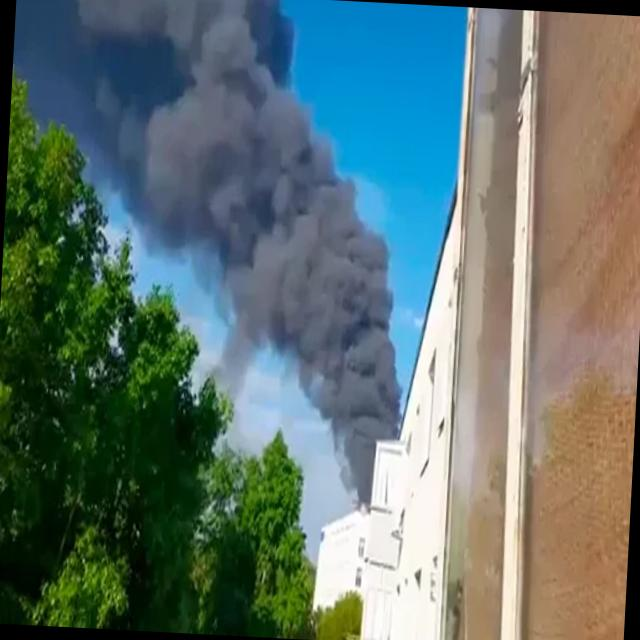Smoke: (46, 0, 422, 500)
